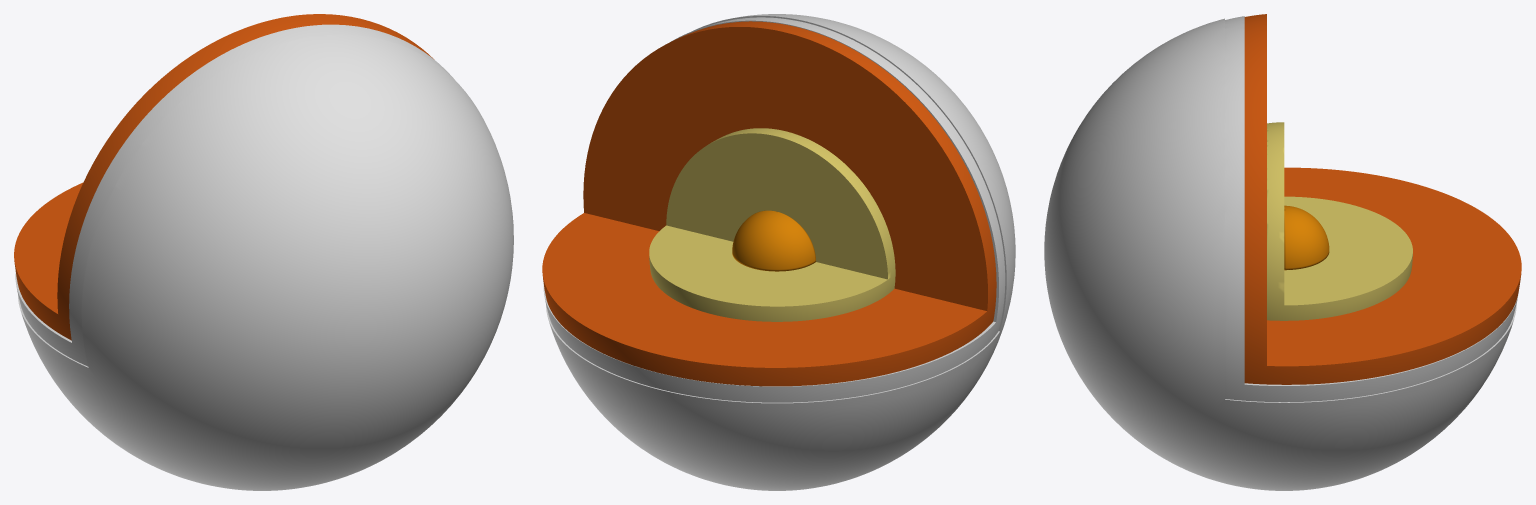
File: VenusCut.fbx
3 renders of one model, left to right at view 1: azimuth 30°, elevation 25°; view 2: azimuth 150°, elevation 25°; view 3: azimuth 270°, elevation 25°, orthographic. The views are drawn at different scales.
Parts seen in each view (by area): view 1: VenusAtmosphere, VenusMantle, Venus; view 2: VenusMantle, VenusAtmosphere, VenusExternalCore, Venus, VenusInerCore; view 3: VenusAtmosphere, VenusMantle, VenusExternalCore, Venus, VenusInerCore.
Boxes of the visible parts, left/top/right/bottom form: VenusAtmosphere: left=18, top=34, right=513, bottom=490; VenusMantle: left=14, top=14, right=434, bottom=340; Venus: left=15, top=24, right=454, bottom=366; VenusMantle: left=542, top=21, right=996, bottom=386; VenusAtmosphere: left=546, top=14, right=1015, bottom=490; VenusExternalCore: left=649, top=128, right=895, bottom=321; Venus: left=543, top=17, right=1005, bottom=402; VenusInerCore: left=732, top=210, right=816, bottom=271; VenusAtmosphere: left=1044, top=18, right=1516, bottom=490; VenusMantle: left=1244, top=14, right=1521, bottom=384; VenusExternalCore: left=1267, top=122, right=1412, bottom=320; Venus: left=1225, top=16, right=1518, bottom=402; VenusInerCore: left=1284, top=205, right=1329, bottom=270.
Size of the model in its own units: 119 by 121 by 121.
